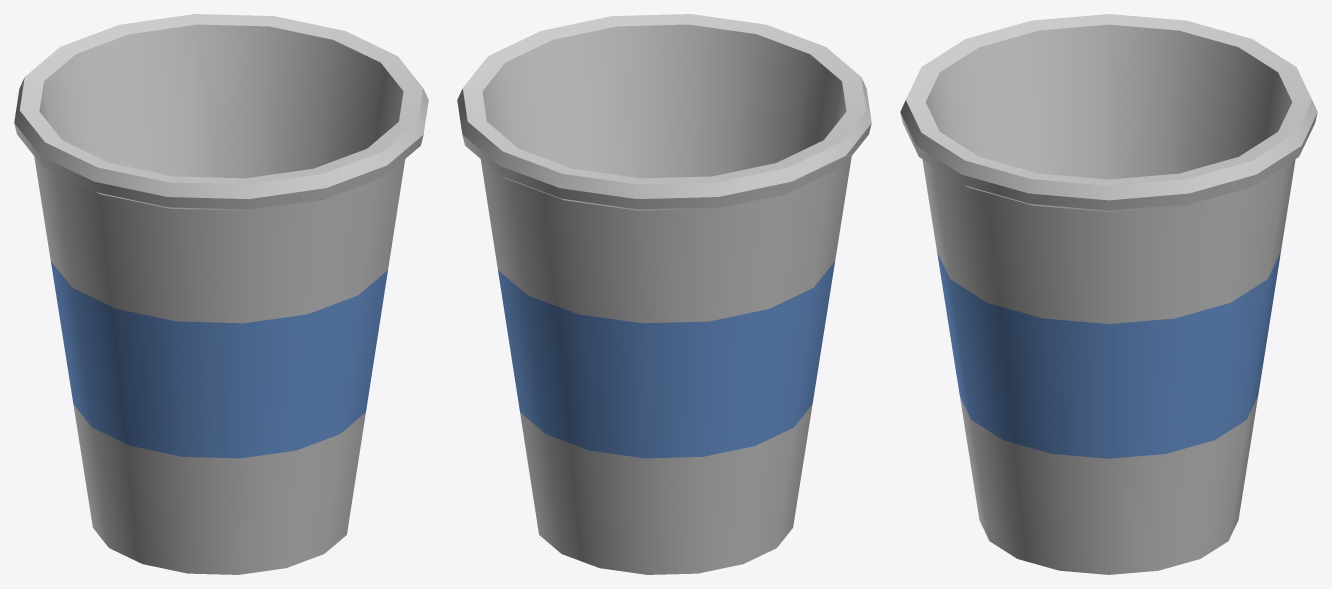
File: cup.fbx
The picture shows the model from 3 angles, left to right: view 1: azimuth 30°, elevation 25°; view 2: azimuth 150°, elevation 25°; view 3: azimuth 270°, elevation 25°; orthographic projection.
Visible parts, largest first — view 1: cup; view 2: cup; view 3: cup.
Part boxes in pixels (x1,y1,x2,y2): cup: [14, 14, 428, 574]; cup: [457, 14, 871, 574]; cup: [900, 14, 1317, 574].
Bounding box in the file's own units: 0.0704 × 0.0704 × 0.0782.
